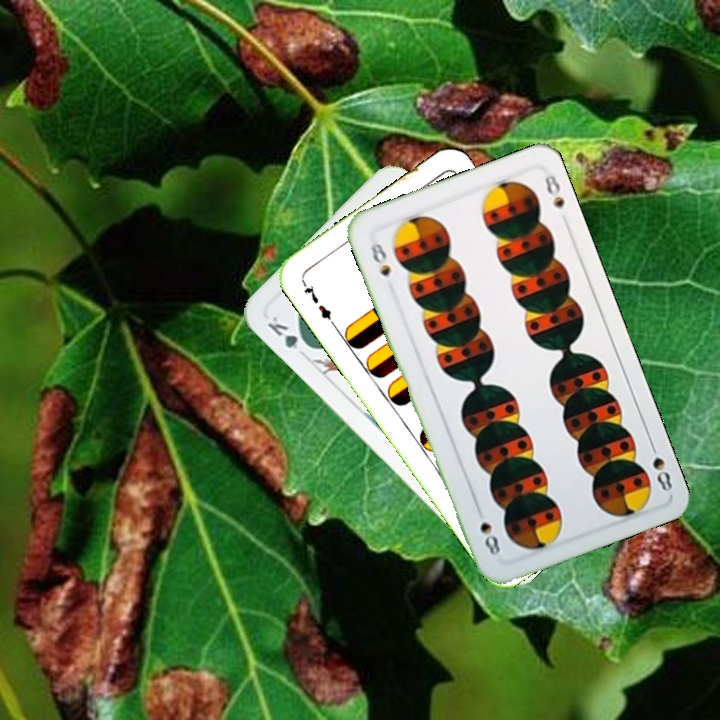E7: (298, 276, 337, 328)
GK: (263, 312, 315, 354)
S8: (645, 437, 678, 495), (364, 232, 393, 280)
